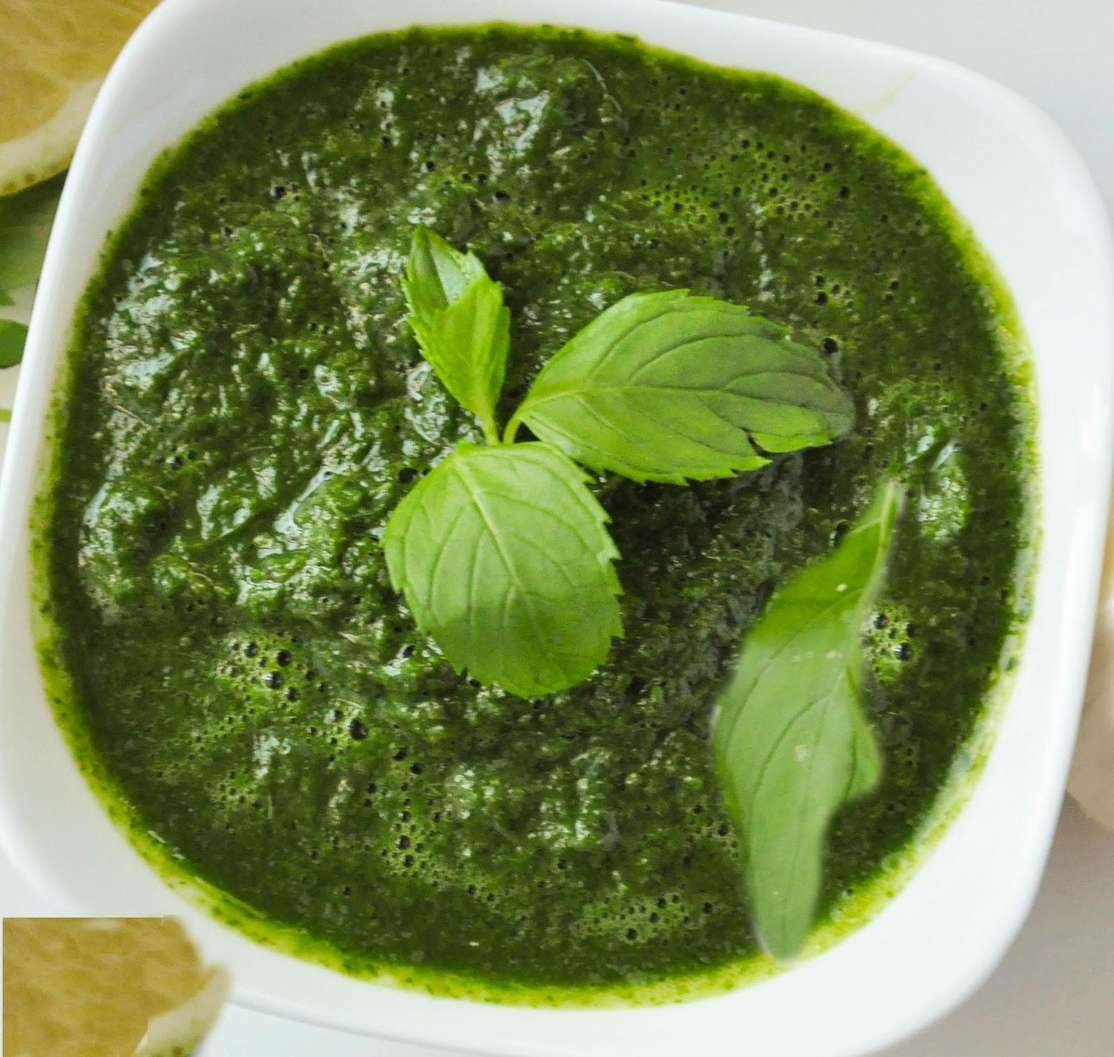GreenChutney: (51, 27, 1019, 990)
